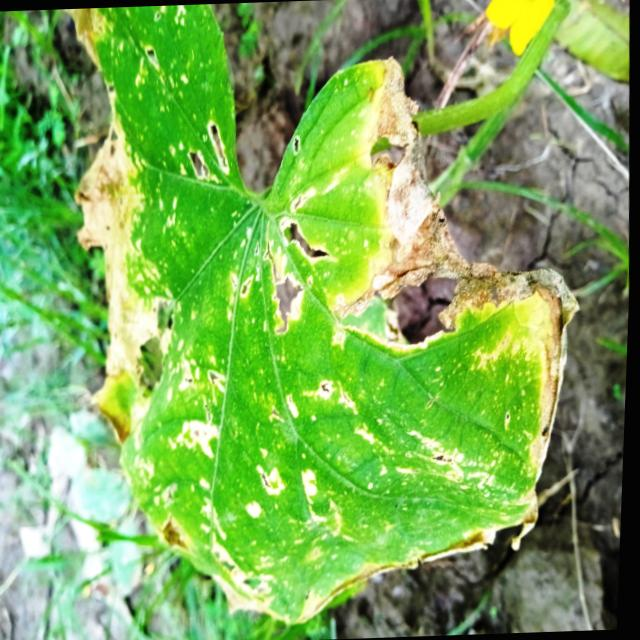Gummy-Stem-Blight: (326, 57, 580, 556), (68, 112, 160, 382)
